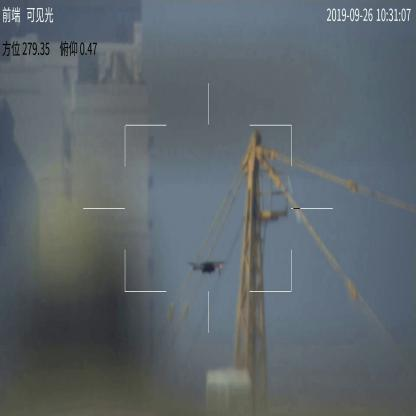uav: (197, 259, 236, 276)
